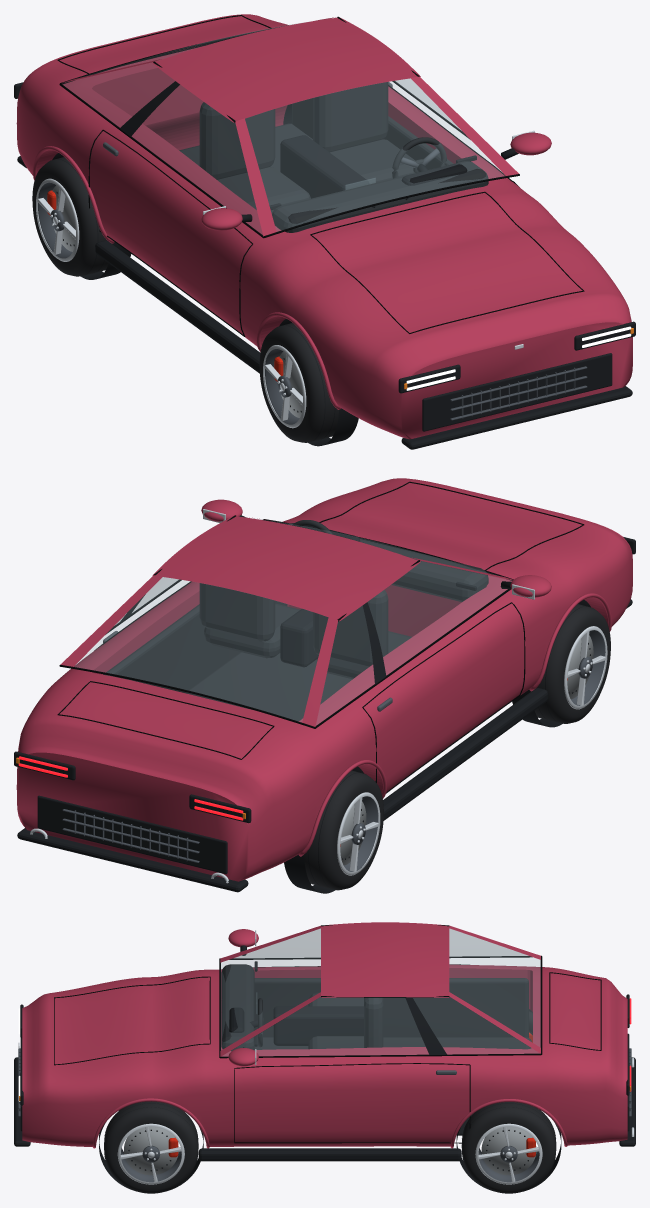
File: heritage.glb
The picture shows the model from 3 angles, top to bottom: view 1: azimuth 30°, elevation 25°; view 2: azimuth 150°, elevation 25°; view 3: azimuth 270°, elevation 25°; orthographic projection. The views are drawn at different scales.
Parts seen in each view (by area): view 1: Sculpted body shell.018, Windshield.018, Painted roof.018, Side glass.036, Front grille housing.018, Interior dashboard.018, Interior seat back.063, Interior seat back.062, Tire.074, Rocker aero sill.036, Tire.072, Interior centre console.018 (+25 smaller); view 2: Sculpted body shell.018, Rear glass.018, Painted roof.018, Side glass.036, Interior cabin floor.018, Rear diffuser grille.018, Interior door card.037, Tire.072, Rocker aero sill.036, Tire.074, Interior seat back.063, Interior seat back.062 (+28 smaller); view 3: Sculpted body shell.018, Side glass.037, Painted roof.018, Interior door card.036, Windshield.018, Rear glass.018, Tire.075, Tire.073, Rocker aero sill.037, Interior centre console.018, Interior dashboard.018, Side glass.036 (+26 smaller).
Part boxes in pixels (x1,y1,x2,y2): Sculpted body shell.018: (16, 14, 632, 439); Windshield.018: (245, 79, 504, 231); Painted roof.018: (160, 18, 412, 119); Side glass.036: (62, 63, 262, 234); Front grille housing.018: (422, 353, 612, 431); Interior dashboard.018: (272, 161, 488, 232); Interior seat back.063: (313, 82, 388, 152); Interior seat back.062: (199, 102, 275, 179); Tire.074: (259, 323, 338, 442); Rocker aero sill.036: (95, 240, 260, 373); Tire.072: (32, 157, 111, 276); Interior centre console.018: (280, 135, 369, 198); Sculpted body shell.018: (16, 478, 632, 881); Rear glass.018: (74, 577, 327, 721); Painted roof.018: (160, 517, 413, 618); Side glass.036: (316, 562, 511, 725); Interior cabin floor.018: (185, 652, 352, 721); Rear diffuser grille.018: (37, 795, 227, 874); Interior door card.037: (103, 600, 287, 692); Tire.072: (304, 770, 383, 890); Rocker aero sill.036: (383, 688, 548, 820); Tire.074: (534, 604, 610, 723); Interior seat back.063: (199, 583, 275, 641); Interior seat back.062: (313, 590, 388, 667); Sculpted body shell.018: (22, 964, 627, 1146); Side glass.037: (222, 997, 538, 1056); Painted roof.018: (321, 923, 449, 996); Interior door card.036: (254, 978, 528, 1037); Windshield.018: (221, 929, 320, 1049); Rear glass.018: (449, 929, 540, 1046); Tire.075: (104, 1101, 198, 1193); Tire.073: (461, 1102, 556, 1193); Rocker aero sill.037: (198, 1148, 461, 1161); Interior centre console.018: (273, 1006, 363, 1045); Interior dashboard.018: (221, 964, 254, 1051); Side glass.036: (237, 929, 526, 957).
Bounding box in the file's own units: 2.26 × 1.49 × 4.47.
